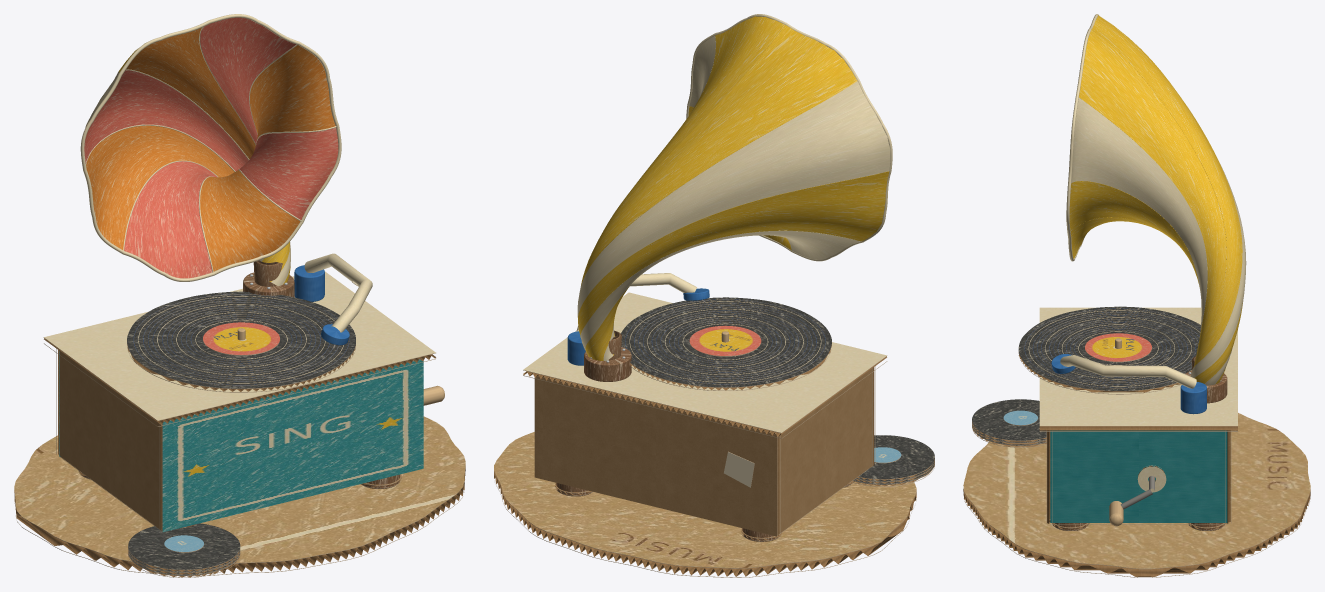
Rendered from 34_paper_horn_gramophone.glb.
3 views of the same model, side by side, from view 1: azimuth 30°, elevation 25°; view 2: azimuth 150°, elevation 25°; view 3: azimuth 270°, elevation 25° (orthographic). The views are drawn at different scales.
Visible parts, largest first — view 1: artwork_34_paper_horn_gramophone, orange, coral, cream, black, kraft, edge, flute, navy, brown, paint_blue; view 2: cream, kraft, yellow, artwork_34_paper_horn_gramophone, black, edge, flute, navy, brown, paint_blue, tape; view 3: artwork_34_paper_horn_gramophone, yellow, cream, paint_teal, black, edge, flute, navy, paint_blue, brown.
Boxes of the visible parts, left/top/right/bottom form: artwork_34_paper_horn_gramophone: left=14, top=322, right=465, bottom=563; orange: left=86, top=27, right=335, bottom=271; coral: left=84, top=17, right=338, bottom=278; cream: left=44, top=14, right=435, bottom=420; black: left=127, top=291, right=355, bottom=575; kraft: left=59, top=351, right=401, bottom=529; edge: left=14, top=265, right=465, bottom=577; flute: left=14, top=338, right=465, bottom=577; navy: left=133, top=294, right=349, bottom=385; brown: left=82, top=260, right=400, bottom=528; paint_blue: left=294, top=265, right=349, bottom=345; cream: left=523, top=14, right=892, bottom=432; kraft: left=534, top=368, right=873, bottom=538; yellow: left=578, top=16, right=889, bottom=360; artwork_34_paper_horn_gramophone: left=494, top=325, right=916, bottom=567; black: left=621, top=297, right=934, bottom=484; edge: left=494, top=299, right=934, bottom=577; flute: left=494, top=345, right=934, bottom=576; navy: left=625, top=299, right=825, bottom=384; brown: left=556, top=330, right=851, bottom=541; paint_blue: left=567, top=288, right=709, bottom=365; tape: left=724, top=452, right=754, bottom=487; artwork_34_paper_horn_gramophone: left=963, top=333, right=1310, bottom=568; yellow: left=1069, top=15, right=1243, bottom=384; cream: left=1028, top=14, right=1246, bottom=492; paint_teal: left=1050, top=430, right=1227, bottom=522; black: left=972, top=306, right=1200, bottom=445; edge: left=963, top=308, right=1310, bottom=577; flute: left=963, top=352, right=1310, bottom=576; navy: left=1024, top=308, right=1199, bottom=387; paint_blue: left=1051, top=354, right=1206, bottom=414; brown: left=1053, top=356, right=1227, bottom=530.
Bounding box in the file's own units: 0.4026 × 0.4761 × 0.3411.
Materials: 20 (17 with a texture image).
